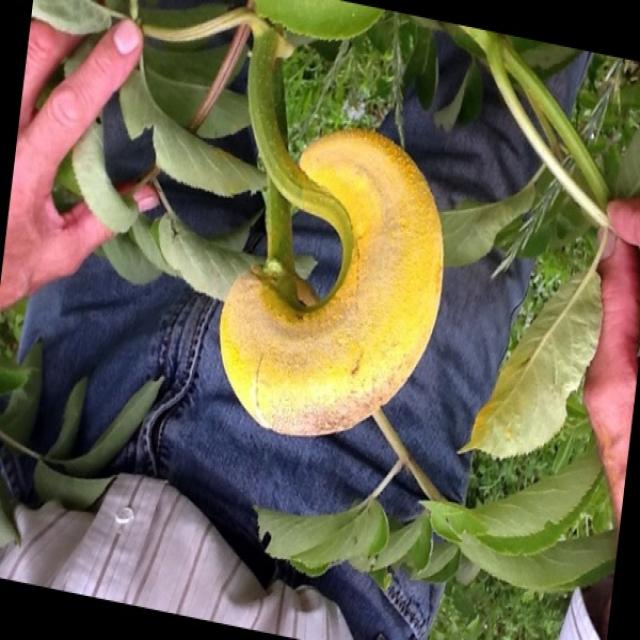Elderberry_rust: (216, 124, 445, 438)
